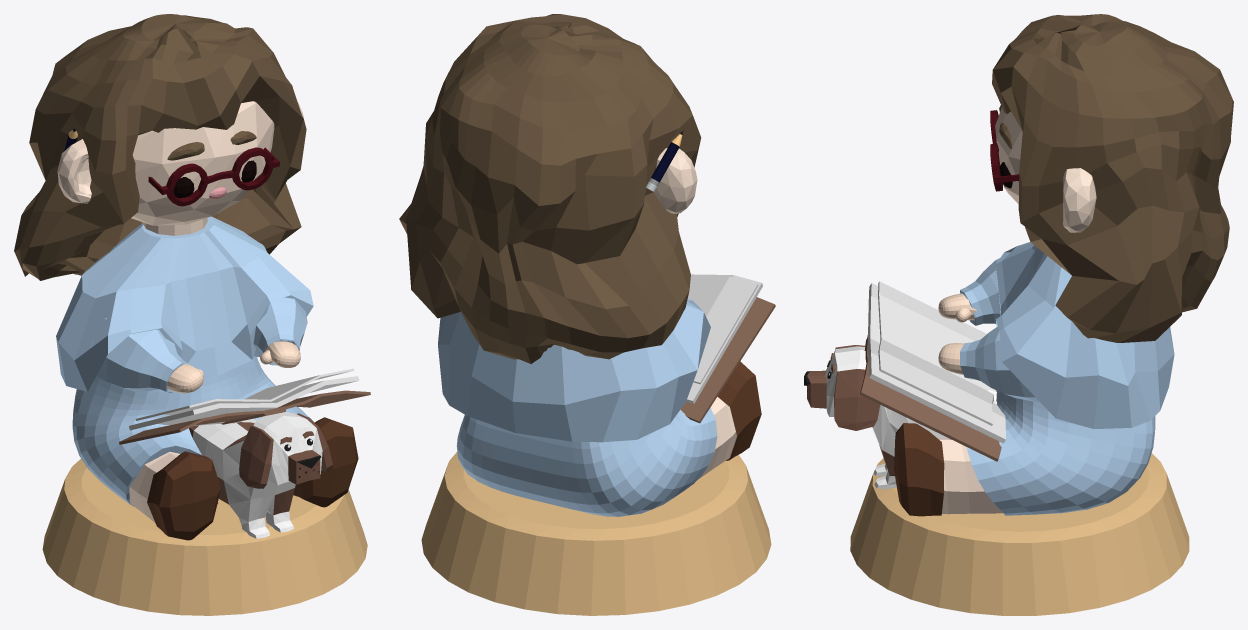
Rendered from marta_ninaleyendo.fbx.
The picture shows the model from 3 angles, left to right: view 1: azimuth 30°, elevation 25°; view 2: azimuth 150°, elevation 25°; view 3: azimuth 270°, elevation 25°; orthographic projection. The views are drawn at different scales.
Visible parts, largest first — view 1: Sphere.007, Cylinder.038, Cylinder.019, Cube_Cube.001, Cube.006, Roundcube.033, Cube.007, Cube.033, Cylinder.025, Cover, Cube, Cube.034 (+6 smaller); view 2: Sphere.007, Cylinder.038, Cylinder.019, Cube.006, Cube.014, Cover, Cube.007, Cube.034, Cube.037, Cube, group1188961352; view 3: Sphere.007, Cylinder.038, Cylinder.019, Cube.006, Cube.014, Cube_Cube.001, Cube.033, Cube.007, Cover, Cube, Cube.037, Cube.034 (+3 smaller).
Part boxes in pixels (left/top/right/bottom): Sphere.007: left=14, top=14, right=306, bottom=280; Cylinder.038: left=42, top=459, right=367, bottom=615; Cylinder.019: left=56, top=216, right=313, bottom=391; Cube_Cube.001: left=189, top=412, right=332, bottom=538; Cube.006: left=72, top=356, right=314, bottom=506; Roundcube.033: left=131, top=101, right=274, bottom=225; Cube.007: left=147, top=417, right=358, bottom=540; Cube.033: left=90, top=297, right=307, bottom=392; Cylinder.025: left=148, top=147, right=279, bottom=206; Cover: left=119, top=390, right=370, bottom=444; Cube: left=129, top=376, right=359, bottom=430; Cube.034: left=57, top=102, right=303, bottom=203; Sphere.007: left=399, top=14, right=701, bottom=363; Cylinder.038: left=421, top=452, right=771, bottom=615; Cylinder.019: left=438, top=298, right=710, bottom=442; Cube.006: left=456, top=407, right=717, bottom=516; Cube.014: left=688, top=276, right=758, bottom=384; Cover: left=680, top=297, right=775, bottom=423; Cube.007: left=717, top=361, right=761, bottom=460; Cube.034: left=654, top=148, right=697, bottom=213; Cube.037: left=698, top=397, right=736, bottom=479; Cube: left=686, top=274, right=762, bottom=403; group1188961352: left=646, top=130, right=683, bottom=191; Sphere.007: left=992, top=14, right=1233, bottom=342; Cylinder.038: left=850, top=453, right=1189, bottom=615; Cylinder.019: left=995, top=242, right=1174, bottom=429; Cube.006: left=966, top=390, right=1155, bottom=515; Cube.014: left=878, top=281, right=993, bottom=425; Cube_Cube.001: left=804, top=345, right=996, bottom=489; Cube.033: left=960, top=258, right=1039, bottom=402; Cube.007: left=894, top=423, right=944, bottom=516; Cover: left=860, top=335, right=1001, bottom=461; Cube: left=867, top=283, right=1005, bottom=443; Cube.037: left=938, top=438, right=1002, bottom=514; Cube.034: left=1063, top=168, right=1096, bottom=232.
Size of the model in its own units: 30.79 by 52.47 by 39.05.
